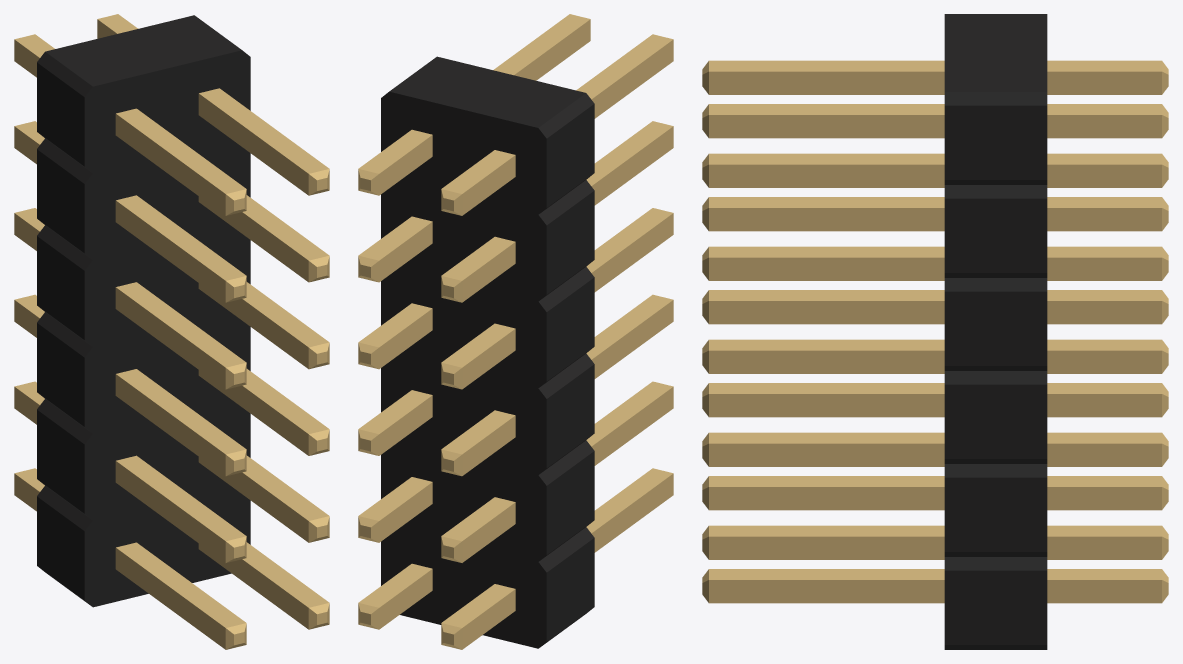
The model's file is header-2x06.glb.
3 views of the same model, side by side, from view 1: azimuth 30°, elevation 25°; view 2: azimuth 150°, elevation 25°; view 3: azimuth 270°, elevation 25° (orthographic). The views are drawn at different scales.
Visible parts, largest first — view 1: IC-BODY-EPOXY-04, PIN-02; view 2: IC-BODY-EPOXY-04, PIN-02; view 3: PIN-02, IC-BODY-EPOXY-04.
Boxes of the visible parts, <box> form: IC-BODY-EPOXY-04: <box>37,15,250,607</box>; PIN-02: <box>14,14,329,649</box>; IC-BODY-EPOXY-04: <box>381,56,594,648</box>; PIN-02: <box>358,14,673,649</box>; PIN-02: <box>702,60,1168,603</box>; IC-BODY-EPOXY-04: <box>944,14,1047,649</box>.
Bounding box in the file's own units: 5.08 × 15.24 × 11.54.
